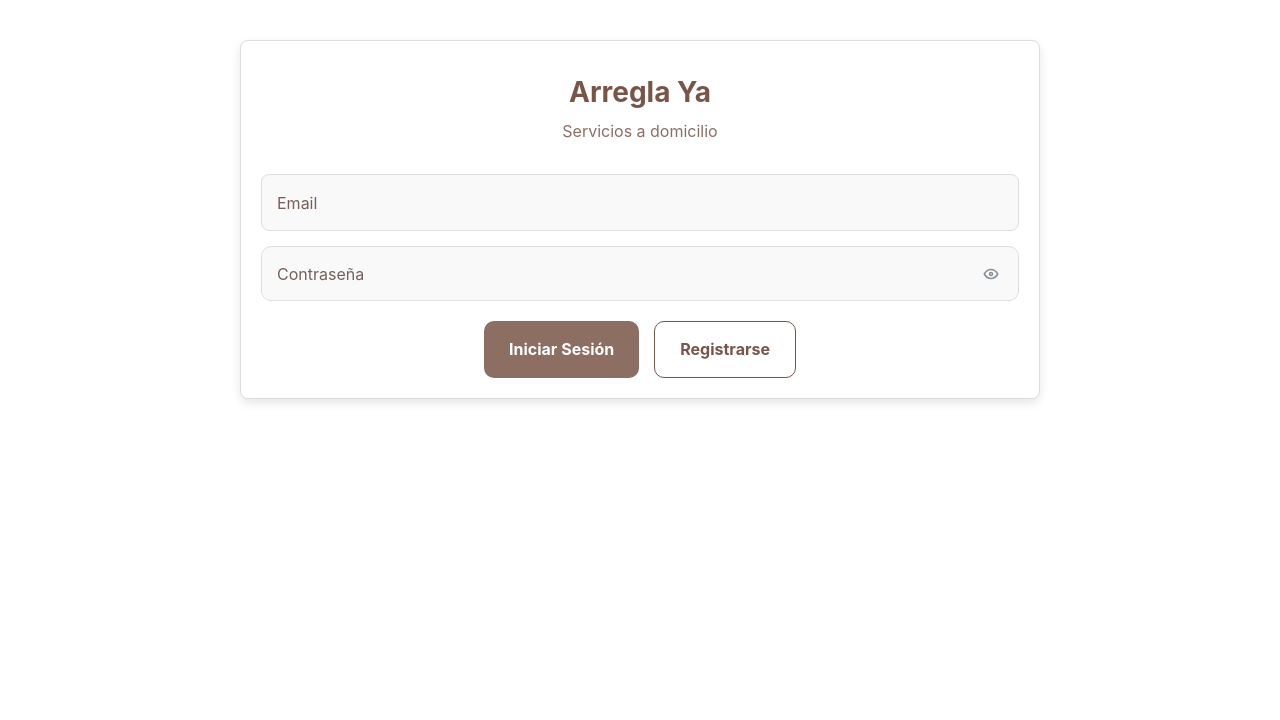
Test: LoginPage › muestra modal cuando credenciales son incorrectas
Type "test@test.com" into the field with placeholder "Email".
click(640, 203); type("test@test.com")  # box [261, 174, 1019, 231]
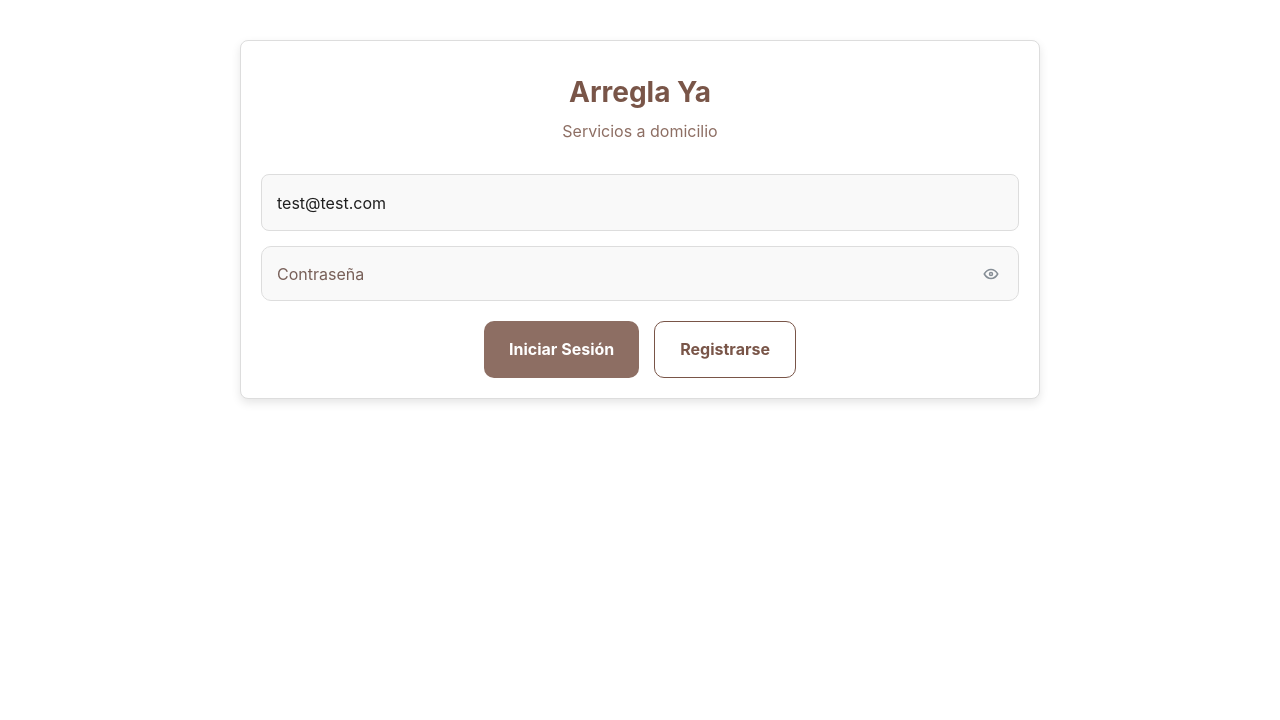
Type "123" into the password field with placeholder "Contraseña".
click(640, 274); type("123")  # box [261, 246, 1019, 301]
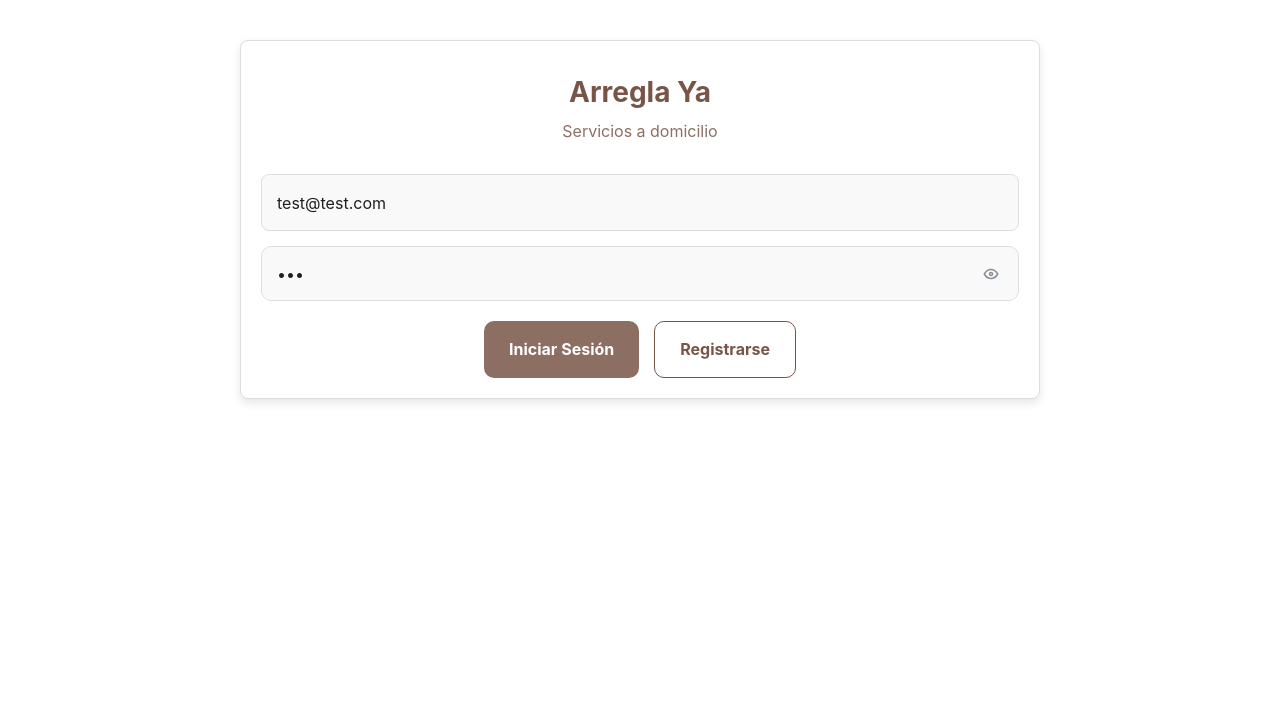
Click the button "Iniciar Sesión".
click(562, 350)  # box [484, 321, 639, 378]
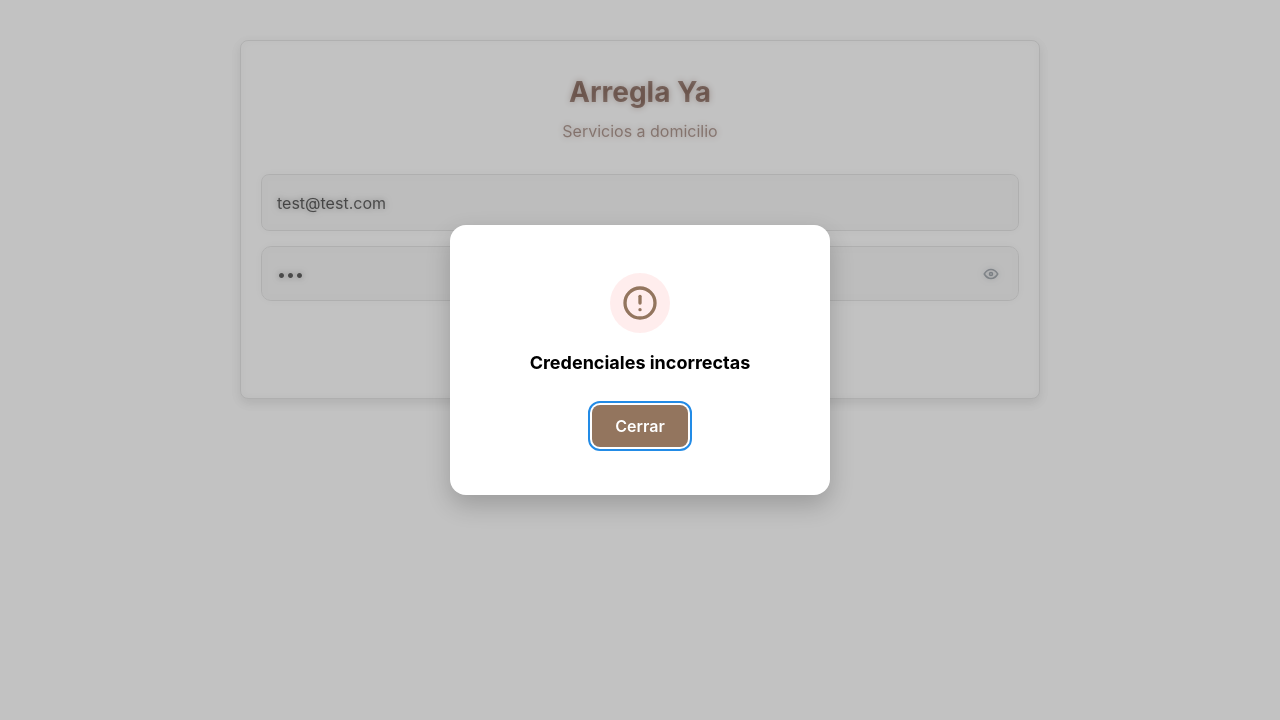
Expected: the text "Credenciales incorrectas" is shown, [530, 349, 750, 377]
